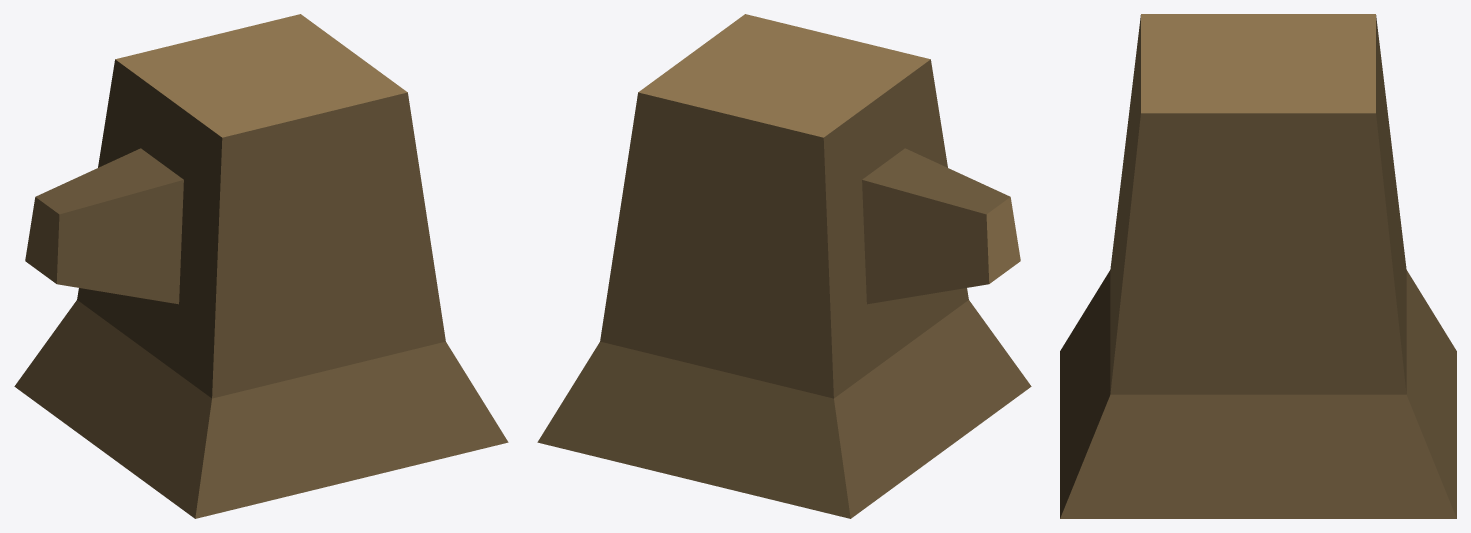
File: Trunk_Alt_02.obj
3 renders of one model, left to right at view 1: azimuth 30°, elevation 25°; view 2: azimuth 150°, elevation 25°; view 3: azimuth 270°, elevation 25°, orthographic. The views are drawn at different scales.
Parts seen in each view (by area): view 1: Mesh1_Trunk_Alt_Model.001; view 2: Mesh1_Trunk_Alt_Model.001; view 3: Mesh1_Trunk_Alt_Model.001.
Part boxes in pixels (x1,y1,x2,y2): Mesh1_Trunk_Alt_Model.001: (14,14,508,518); Mesh1_Trunk_Alt_Model.001: (537,14,1031,518); Mesh1_Trunk_Alt_Model.001: (1060,14,1456,518).
Bounding box in the file's own units: 0.9675 × 0.83 × 0.8037.
